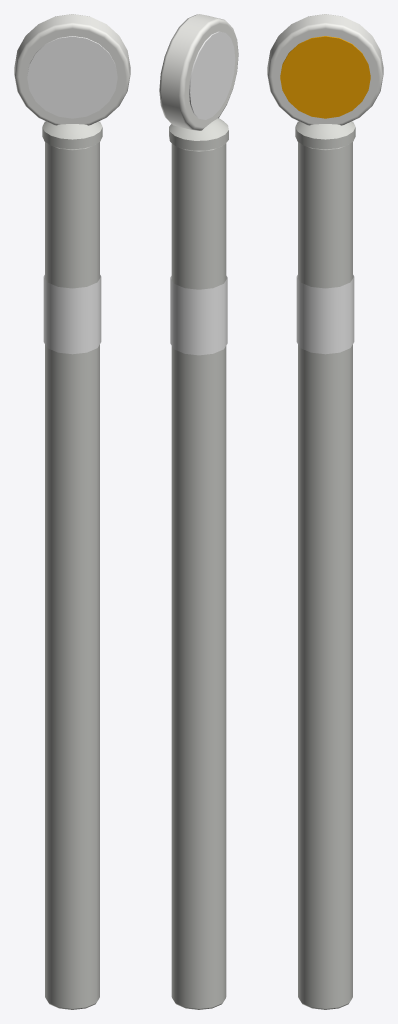
Rendered from delineator_post.fbx.
The picture shows the model from 3 angles, left to right: view 1: azimuth 90°, elevation 25°; view 2: azimuth 150°, elevation 25°; view 3: azimuth 270°, elevation 25°; orthographic projection.
Parts seen in each view (by area): view 1: delineator_post; view 2: delineator_post; view 3: delineator_post.
Part boxes in pixels (box(x1,y1,x2,y2)): delineator_post: box(14, 14, 130, 1009); delineator_post: box(159, 14, 238, 1009); delineator_post: box(267, 14, 383, 1009).
Size of the model in its own units: 0.0665 by 1.19 by 0.128.
